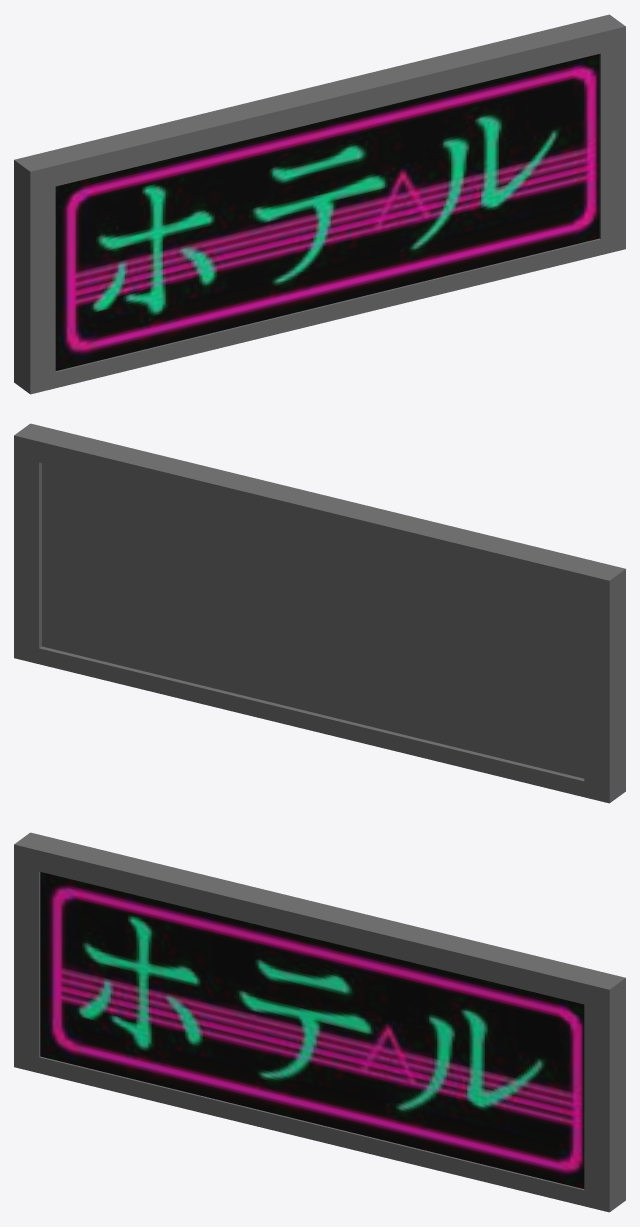
File: Sign_2.glb
3 views of the same model, one above another, from view 1: azimuth 30°, elevation 25°; view 2: azimuth 150°, elevation 25°; view 3: azimuth 330°, elevation 25° (orthographic).
Visible parts, largest first — view 1: Sign_2; view 2: Sign_2; view 3: Sign_2.
Part boxes in pixels (left/top/right/bottom): Sign_2: left=14, top=14, right=625, bottom=394; Sign_2: left=14, top=423, right=625, bottom=803; Sign_2: left=14, top=832, right=625, bottom=1212.
Bounding box in the file's own units: 1.29 × 0.4622 × 0.0618.
2 materials, 1 textured.
